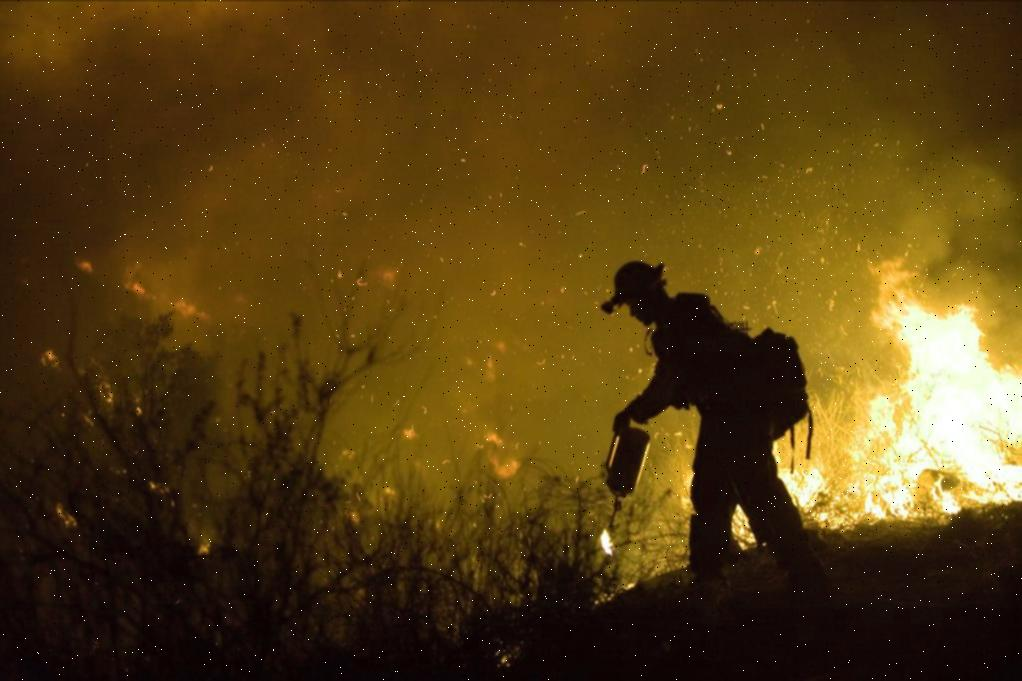fire: (819, 243, 1022, 540)
